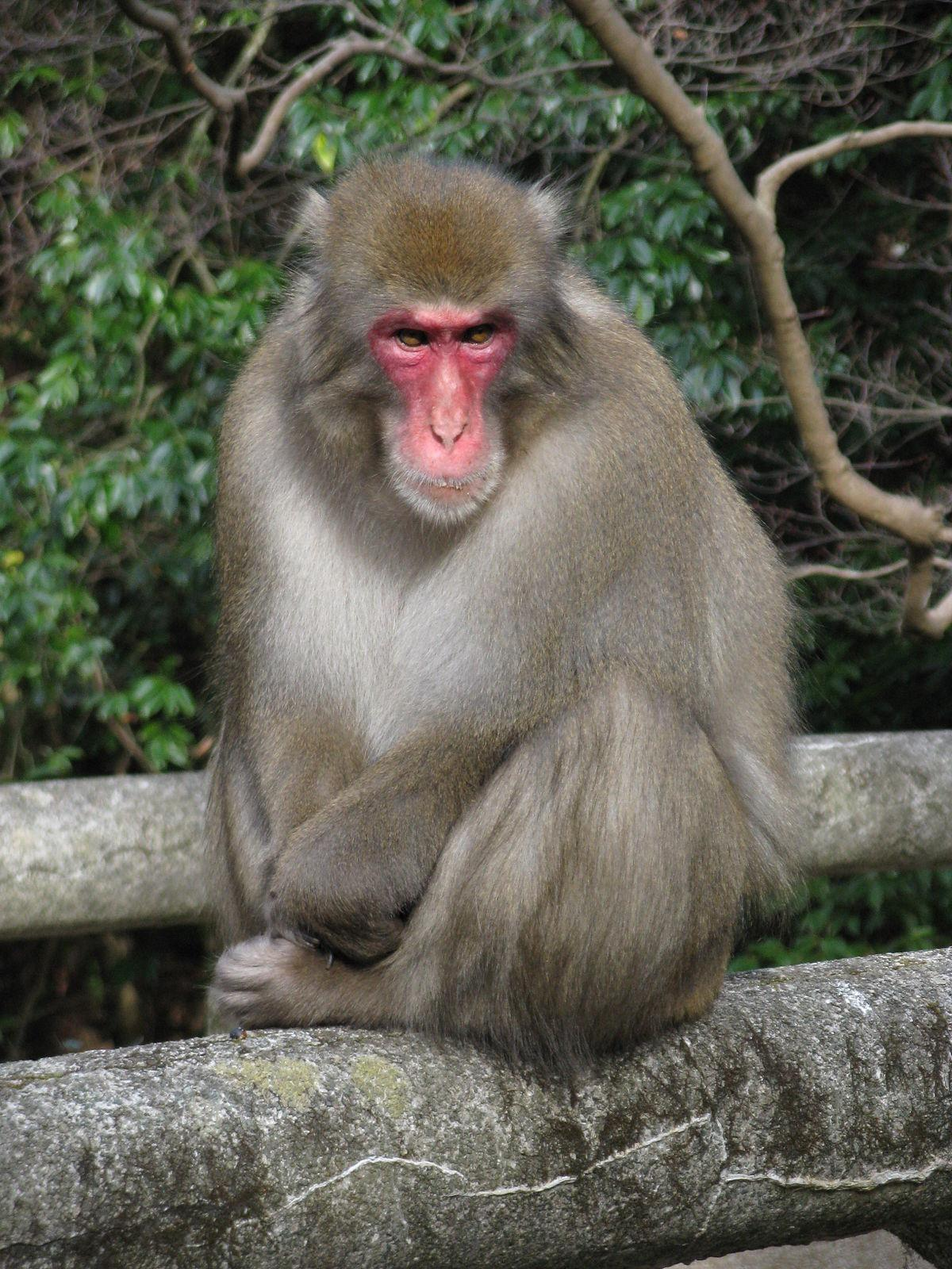monkey: (205, 154, 952, 1060)
